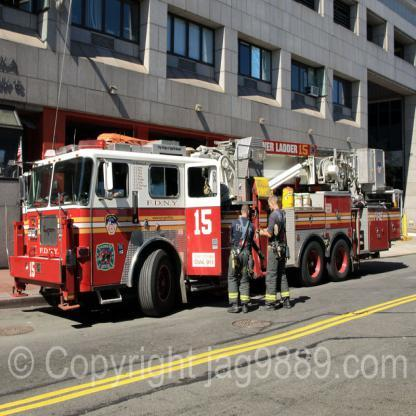fire-truck: (4, 80, 416, 400)
